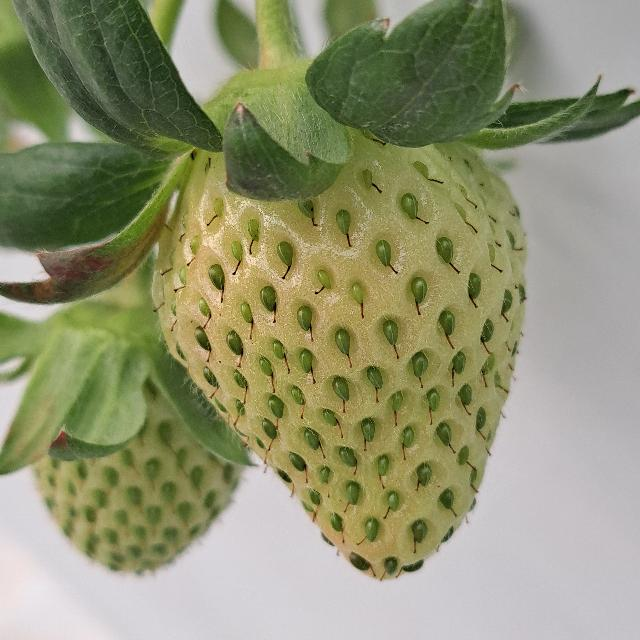Health_25: (152, 126, 528, 578)
